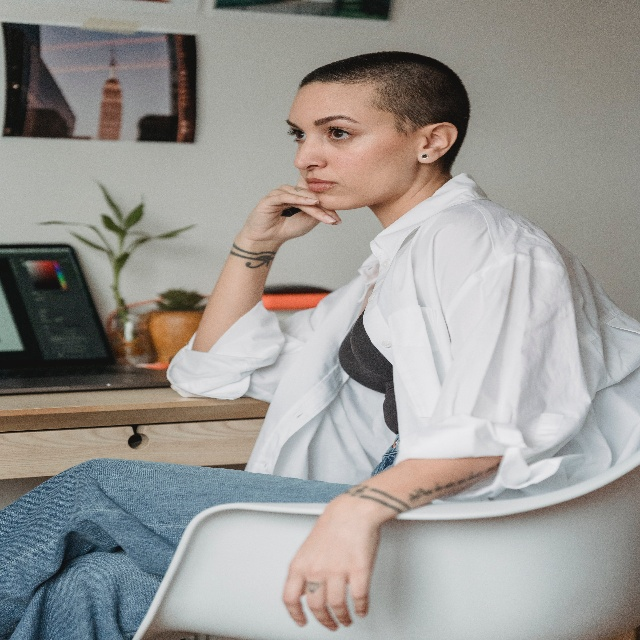Sin_guantes: (282, 496, 383, 628), (245, 179, 343, 249)
